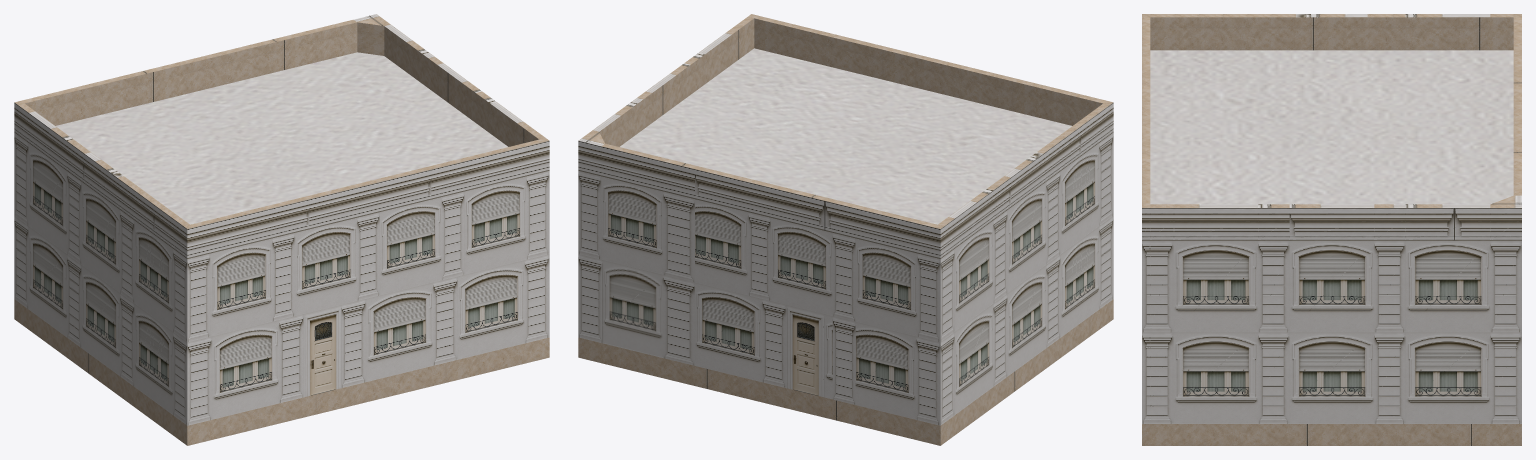
File: CasaCheta.fbx
The picture shows the model from 3 angles, left to right: view 1: azimuth 30°, elevation 25°; view 2: azimuth 150°, elevation 25°; view 3: azimuth 270°, elevation 25°; orthographic projection. The views are drawn at different scales.
Parts seen in each view (by area): view 1: Nuevo_CasaBlanca_2; view 2: Nuevo_CasaBlanca_2; view 3: Nuevo_CasaBlanca_2.
Part boxes in pixels (bbox=[...]): Nuevo_CasaBlanca_2: bbox=[14, 14, 549, 445]; Nuevo_CasaBlanca_2: bbox=[578, 14, 1113, 445]; Nuevo_CasaBlanca_2: bbox=[1142, 14, 1521, 445].
Size of the model in its own units: 13.91 by 11.51 by 7.96.
Materials: 1 (1 with a texture image).
